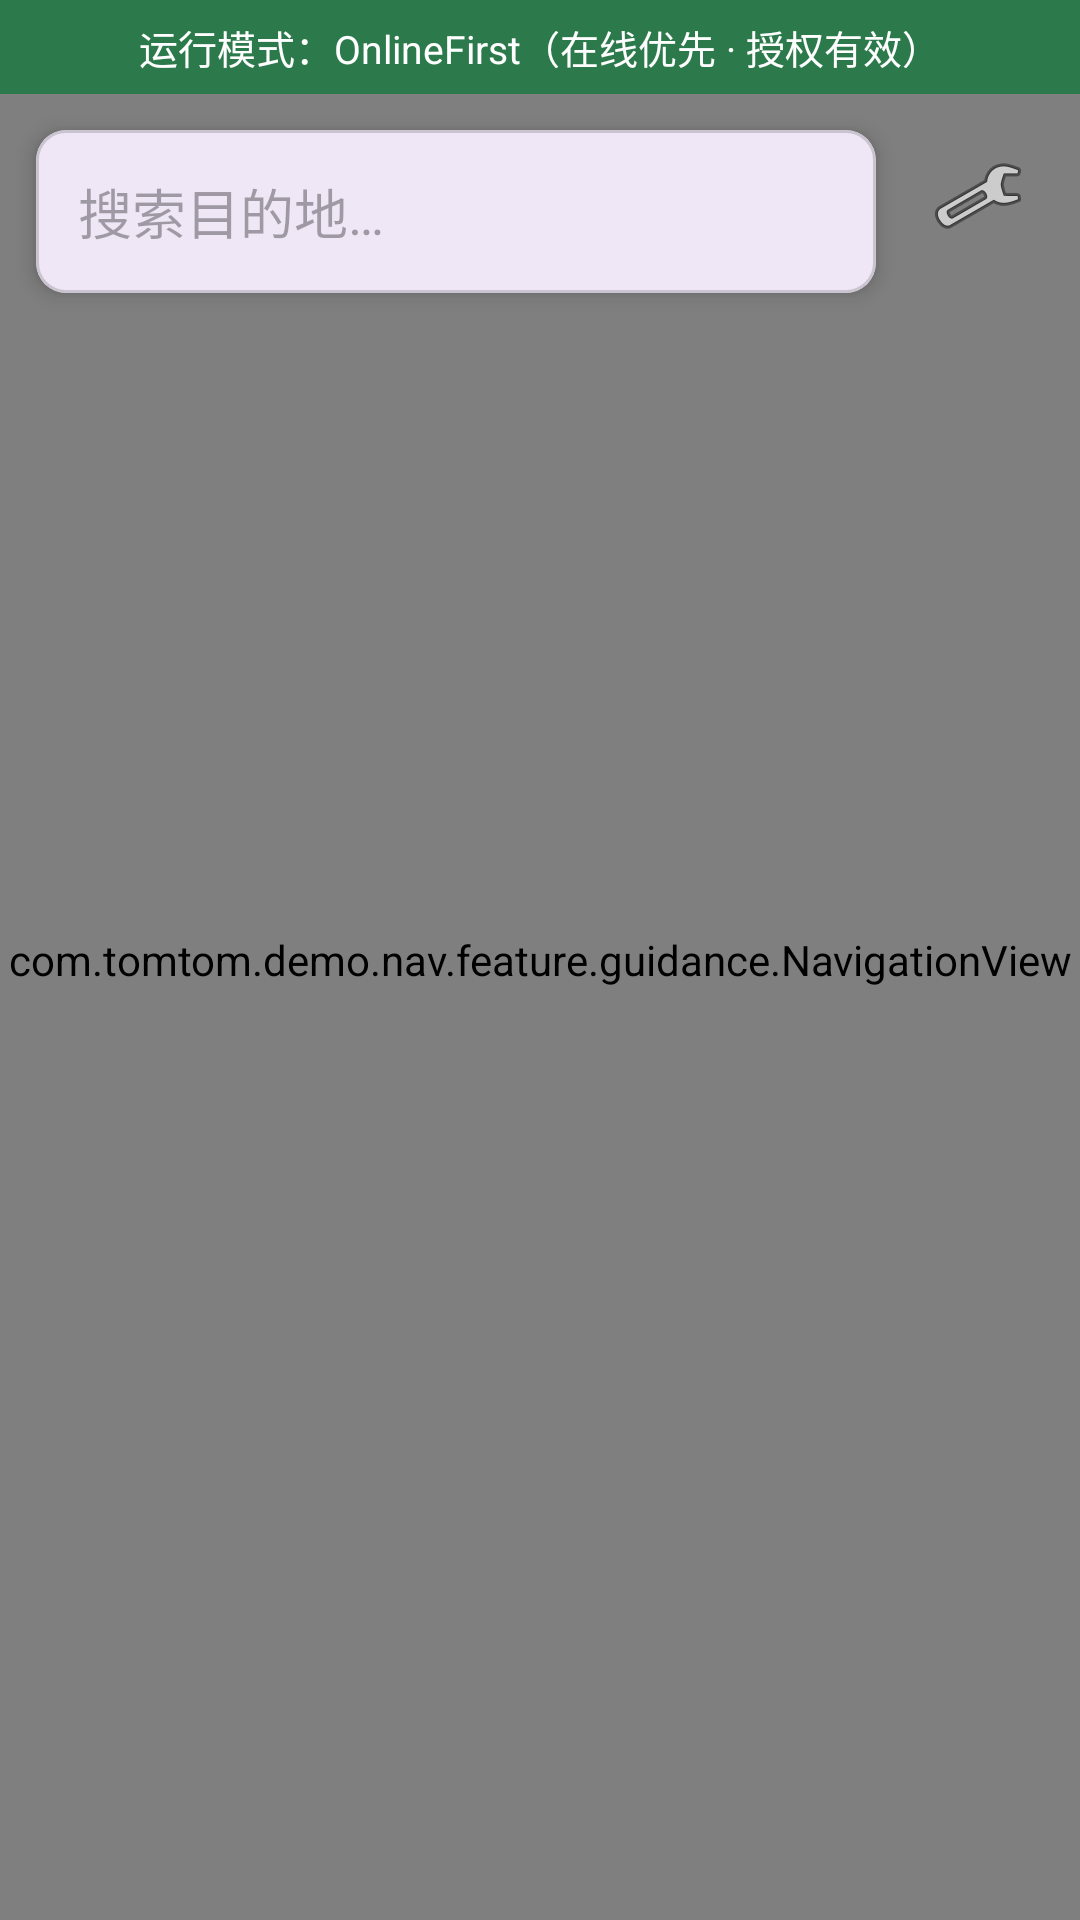

Icon bounding boxes for this 1080x1920 phone screenshot, format (x1, y1, x2, y2):
设置: (935, 163, 1021, 229)
